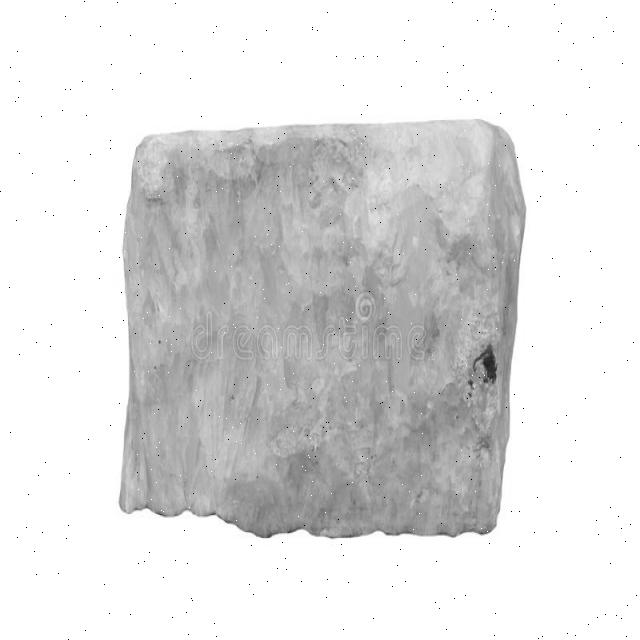Sedimentary: (116, 108, 518, 548)
